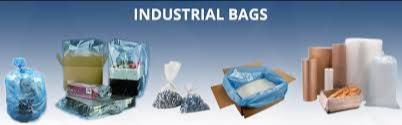Plastic: (0, 48, 50, 124), (227, 62, 291, 110), (105, 34, 146, 98), (154, 59, 184, 114), (55, 34, 107, 62), (178, 81, 210, 118)
